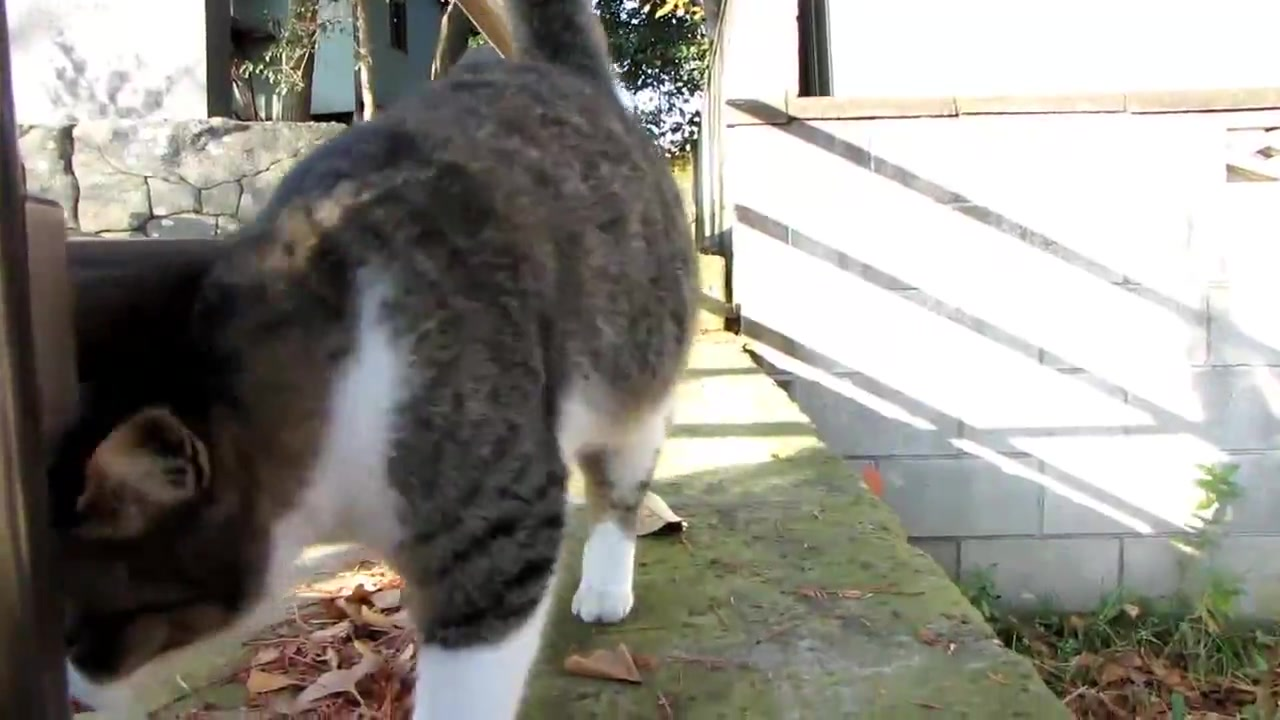cat: (53, 1, 704, 718)
